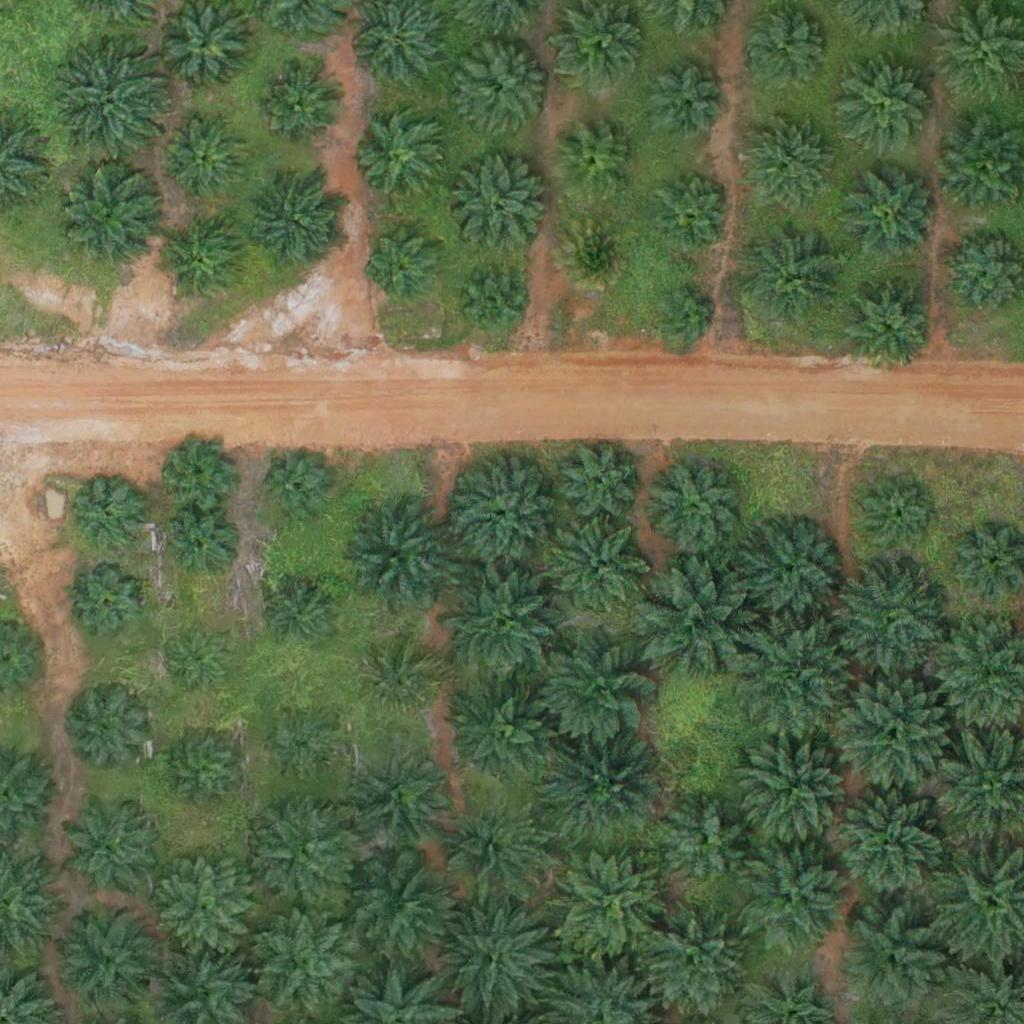Kelapa_Sawit: (333, 495, 458, 621), (440, 556, 565, 682), (535, 626, 660, 752), (632, 559, 757, 685), (735, 618, 860, 744), (829, 783, 954, 909), (741, 736, 854, 850), (56, 45, 169, 158), (343, 852, 456, 965), (439, 906, 552, 1019), (739, 841, 852, 954), (833, 907, 946, 1020), (836, 674, 948, 788), (249, 792, 361, 905), (251, 907, 363, 1020), (449, 678, 561, 791), (436, 794, 548, 907), (548, 731, 660, 844), (553, 850, 665, 963), (634, 905, 746, 1018), (831, 559, 943, 672), (835, 57, 935, 158), (249, 172, 349, 273), (62, 158, 162, 259), (450, 459, 550, 560), (838, 274, 938, 374), (744, 224, 844, 324), (454, 38, 554, 138), (450, 156, 550, 256), (61, 798, 161, 898), (63, 913, 163, 1013), (154, 859, 254, 959), (549, 516, 649, 616), (739, 522, 839, 622), (159, 214, 247, 303), (557, 1, 645, 89), (159, 1, 247, 89), (261, 62, 349, 150), (162, 113, 250, 201), (66, 684, 154, 772), (161, 727, 249, 815), (663, 797, 751, 885), (848, 170, 935, 258), (742, 1, 829, 89), (744, 113, 831, 201), (360, 115, 447, 203), (358, 750, 445, 838), (555, 437, 642, 525), (649, 463, 736, 551), (557, 126, 632, 202), (647, 65, 722, 141), (860, 480, 935, 556), (654, 174, 729, 250), (558, 215, 633, 291), (456, 264, 531, 340), (364, 643, 439, 718), (366, 223, 441, 298), (72, 476, 147, 551), (72, 568, 147, 643), (156, 434, 231, 509), (160, 512, 235, 587), (258, 449, 333, 524), (261, 579, 336, 654), (267, 709, 342, 784), (656, 287, 718, 350), (166, 631, 228, 694)
